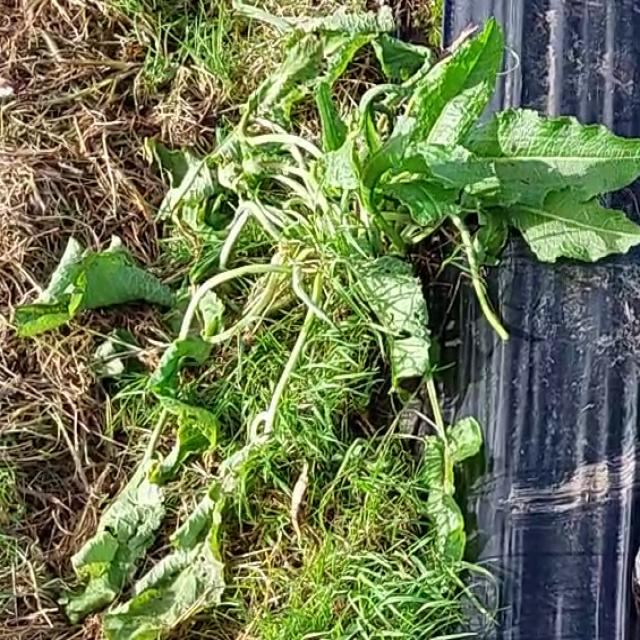organic waste: (187, 0, 615, 339), (52, 385, 282, 640), (18, 236, 306, 411)
